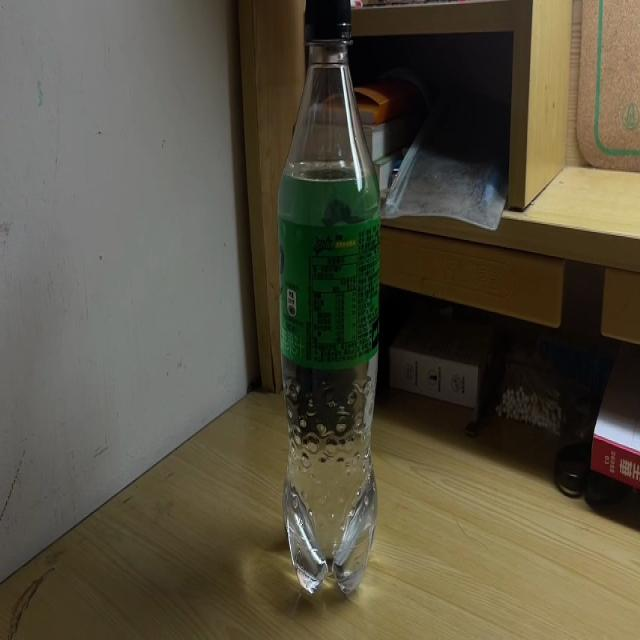Sprite: (276, 0, 382, 599)
